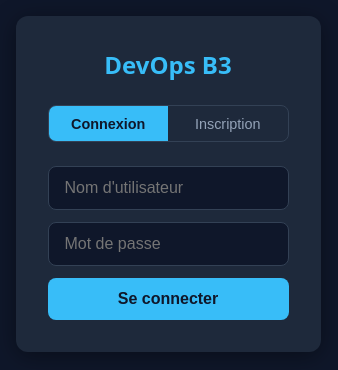
Test: App – navigation entre onglets › revient sur Connexion depuis Inscription
The image size is (338, 370).
Click the button "Inscription": (228, 124) [168,106,288,141]
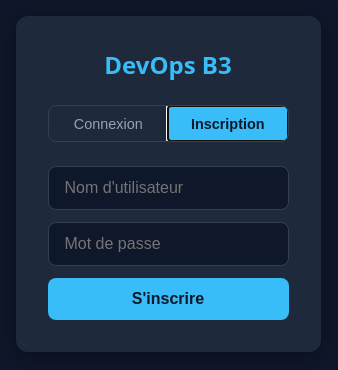
Click the button "Connexion": (108, 124) [48,106,168,141]
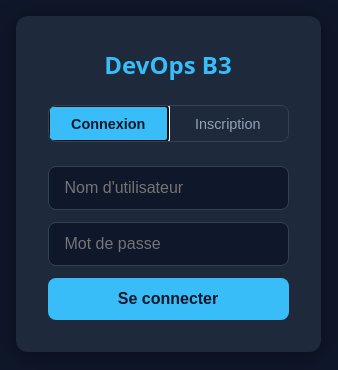
Result: the button "Se connecter" is shown at [48,278,288,320]
